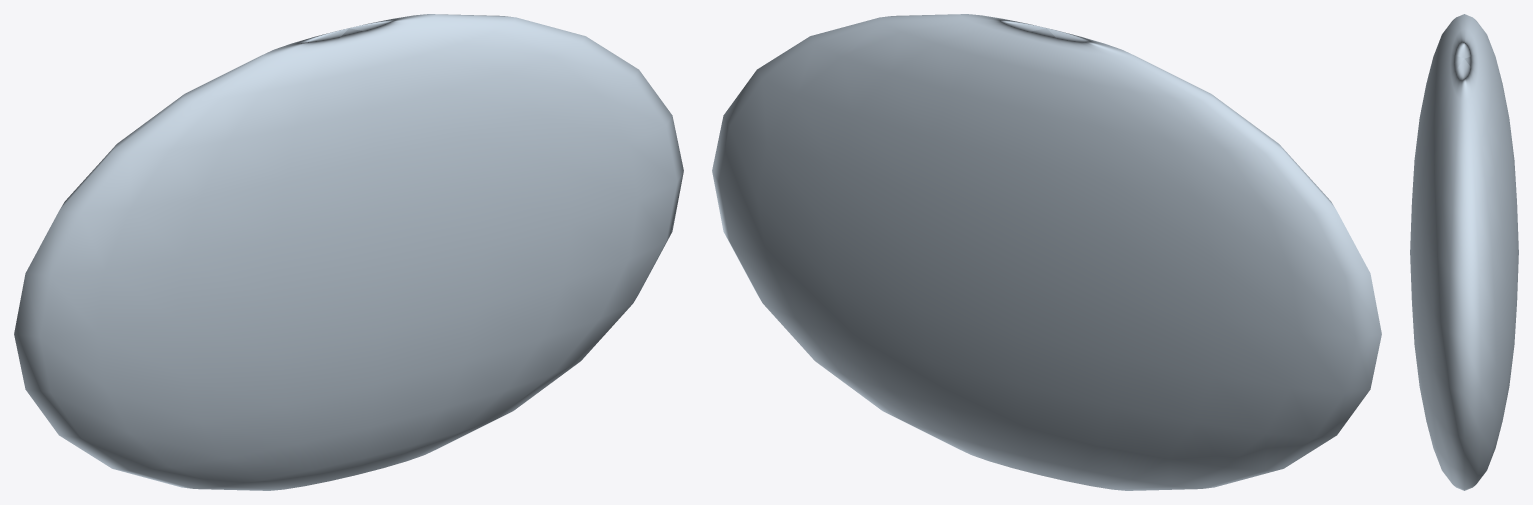
File: Xiangling_GuobaState_EatingChili_GuobaMouth.fbx
The picture shows the model from 3 angles, left to right: view 1: azimuth 30°, elevation 25°; view 2: azimuth 150°, elevation 25°; view 3: azimuth 270°, elevation 25°; orthographic projection. The views are drawn at different scales.
Visible parts, largest first — view 1: PART_GuobaMouthOpening; view 2: PART_GuobaMouthOpening; view 3: PART_GuobaMouthOpening.
Boxes of the visible parts, <box> form: PART_GuobaMouthOpening: <box>14,14,683,490</box>; PART_GuobaMouthOpening: <box>712,14,1381,490</box>; PART_GuobaMouthOpening: <box>1410,14,1518,490</box>.
Size of the model in its own units: 17.2 by 11 by 2.8.
